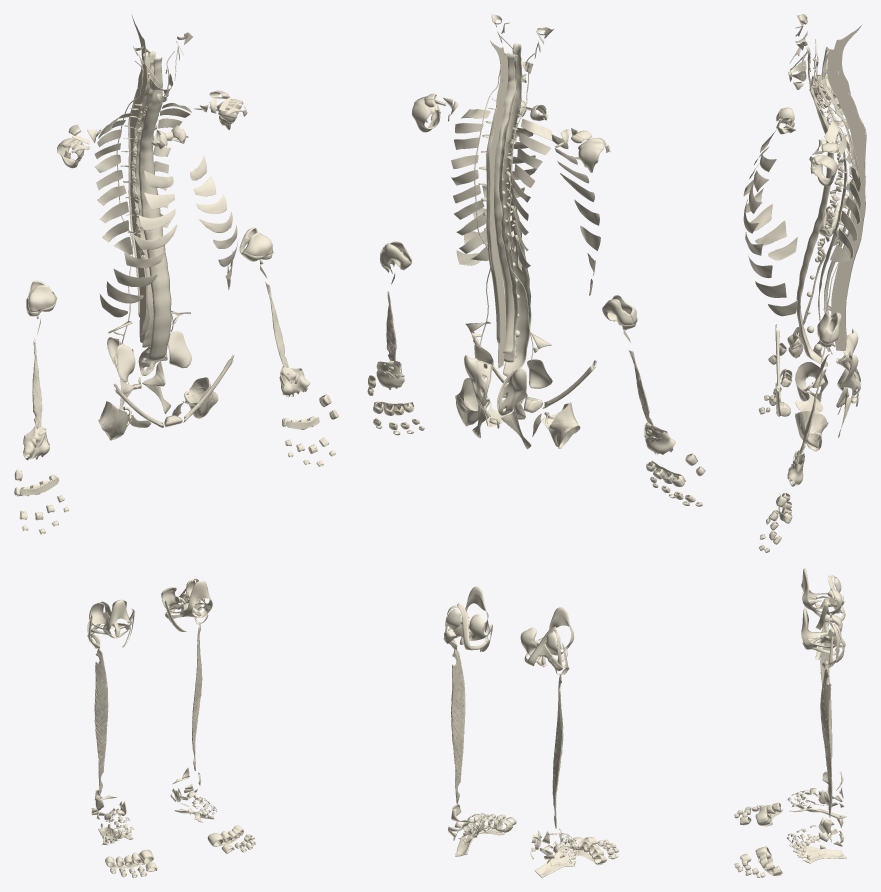
The model's file is ligaments.glb.
The picture shows the model from 3 angles, left to right: view 1: azimuth 30°, elevation 25°; view 2: azimuth 150°, elevation 25°; view 3: azimuth 270°, elevation 25°; orthographic projection. The views are drawn at different scales.
Visible parts, largest first — view 1: Anterior longitudinal ligament, External intercostal membrane.r, Internal intercostal membrane.r, External intercostal membrane.l, Interosseous membrane of leg.r, Interspinous ligaments, Articular capsule of knee joint.l, Posterior longitudinal ligament, Internal intercostal membrane.l, Articular capsule of knee joint.r, Ligamenta flava, Articular capsule of elbow joint.l (+3 smaller); view 2: Anterior longitudinal ligament, Internal intercostal membrane.l, Ligamenta flava, Interspinous ligaments, Internal intercostal membrane.r, Interosseous membrane of leg.l, External intercostal membrane.r, Posterior longitudinal ligament, Articular capsule of knee joint.l, Articular capsule of knee joint.r, Supraspinous ligament, Posterior sacro-iliac ligament.r (+4 smaller); view 3: Interspinous ligaments, External intercostal membrane.l, Anterior longitudinal ligament, Internal intercostal membrane.l, External intercostal membrane.r, Interosseous membrane of leg.l, Articular capsule of knee joint.r, Articular capsule of knee joint.l, Posterior longitudinal ligament, Ligamenta flava, Articular capsule of hip joint.r, Long plantar ligament.l (+15 smaller).
Boxes of the visible parts, left/top/right/bottom form: Anterior longitudinal ligament: left=138, top=57, right=171, bottom=363; External intercostal membrane.r: left=99, top=170, right=177, bottom=317; Internal intercostal membrane.r: left=94, top=113, right=132, bottom=254; External intercostal membrane.l: left=190, top=156, right=238, bottom=289; Interosseous membrane of leg.r: left=94, top=648, right=108, bottom=794; Interspinous ligaments: left=130, top=50, right=149, bottom=343; Articular capsule of knee joint.l: left=161, top=579, right=212, bottom=618; Posterior longitudinal ligament: left=135, top=61, right=153, bottom=347; Internal intercostal membrane.l: left=153, top=102, right=191, bottom=235; Articular capsule of knee joint.r: left=90, top=599, right=131, bottom=638; Ligamenta flava: left=132, top=51, right=155, bottom=335; Articular capsule of elbow joint.l: left=239, top=227, right=272, bottom=261; Anterior longitudinal ligament: left=502, top=43, right=531, bottom=376; Internal intercostal membrane.l: left=451, top=109, right=490, bottom=260; Ligamenta flava: left=494, top=53, right=515, bottom=353; Interspinous ligaments: left=488, top=53, right=508, bottom=368; Internal intercostal membrane.r: left=512, top=119, right=552, bottom=271; Interosseous membrane of leg.l: left=451, top=649, right=465, bottom=804; External intercostal membrane.r: left=551, top=134, right=600, bottom=295; Posterior longitudinal ligament: left=499, top=53, right=518, bottom=362; Articular capsule of knee joint.l: left=446, top=586, right=490, bottom=649; Articular capsule of knee joint.r: left=520, top=607, right=574, bottom=662; Supraspinous ligament: left=486, top=108, right=500, bottom=343; Posterior sacro-iliac ligament.r: left=497, top=368, right=527, bottom=415; Interspinous ligaments: left=826, top=49, right=865, bottom=350; External intercostal membrane.l: left=743, top=154, right=797, bottom=316; Anterior longitudinal ligament: left=796, top=46, right=833, bottom=366; Internal intercostal membrane.l: left=824, top=116, right=861, bottom=262; External intercostal membrane.r: left=743, top=129, right=797, bottom=260; Interosseous membrane of leg.l: left=820, top=667, right=832, bottom=817; Articular capsule of knee joint.r: left=801, top=568, right=844, bottom=622; Articular capsule of knee joint.l: left=801, top=608, right=842, bottom=655; Posterior longitudinal ligament: left=816, top=53, right=847, bottom=351; Ligamenta flava: left=822, top=47, right=854, bottom=320; Articular capsule of hip joint.r: left=795, top=362, right=827, bottom=401; Long plantar ligament.l: left=789, top=843, right=846, bottom=864.
Size of the model in its own units: 0.6615 by 1.58 by 0.2308.
